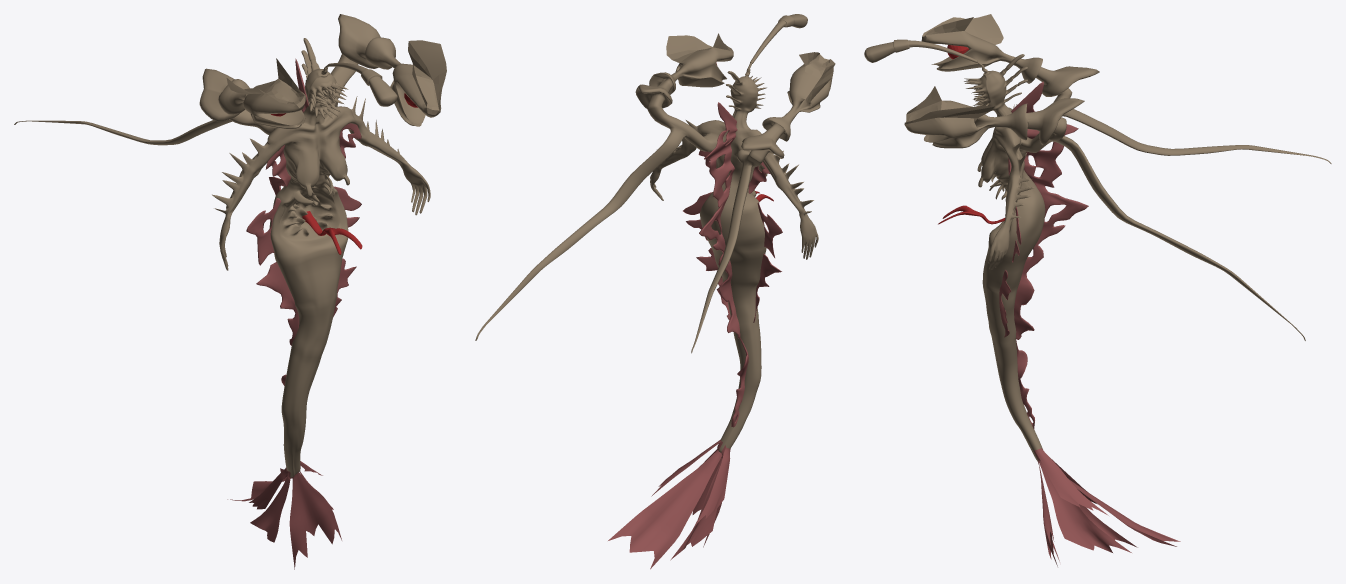
Rendered from mermaid_monster_textured_v3.fbx.
The picture shows the model from 3 angles, left to right: view 1: azimuth 30°, elevation 25°; view 2: azimuth 150°, elevation 25°; view 3: azimuth 270°, elevation 25°; orthographic projection. The views are drawn at different scales.
Parts seen in each view (by area): view 1: polySurface6, polySurface3, mermaid_re:polySurface50polySurface77, polySurface7, polySurface5; view 2: polySurface6, polySurface3, mermaid_re_03:polySurface50polySurface78, mermaid_re:polySurface50polySurface77; view 3: polySurface6, polySurface3, mermaid_re_03:polySurface50polySurface78.
Boxes of the visible parts, bbox=[...] form: polySurface6: bbox=[14, 14, 446, 477]; polySurface3: bbox=[227, 461, 341, 569]; mermaid_re:polySurface50polySurface77: bbox=[246, 198, 299, 345]; polySurface7: bbox=[302, 211, 362, 254]; polySurface5: bbox=[369, 77, 397, 106]; polySurface6: bbox=[475, 15, 835, 452]; polySurface3: bbox=[608, 439, 730, 569]; mermaid_re_03:polySurface50polySurface78: bbox=[699, 102, 748, 427]; mermaid_re:polySurface50polySurface77: bbox=[753, 202, 782, 322]; polySurface6: bbox=[893, 14, 1331, 461]; polySurface3: bbox=[1034, 448, 1180, 566]; mermaid_re_03:polySurface50polySurface78: bbox=[1011, 81, 1088, 429].
Size of the model in its own units: 18.29 by 36.66 by 29.86.
